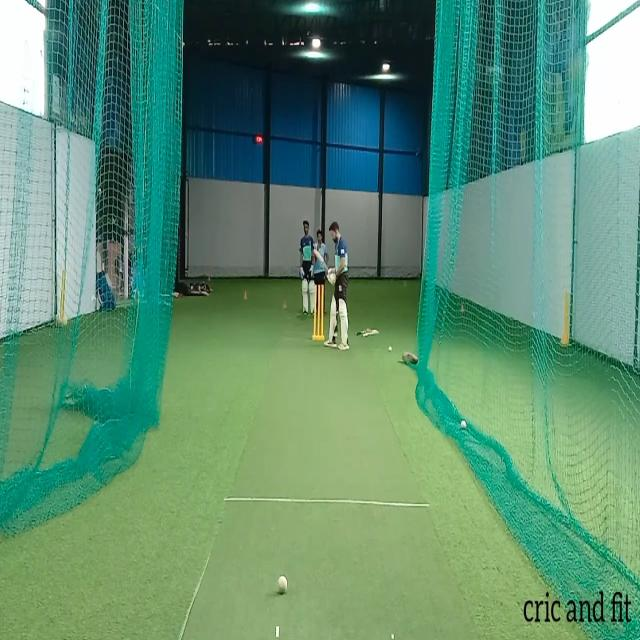batsman: (313, 220, 350, 351)
